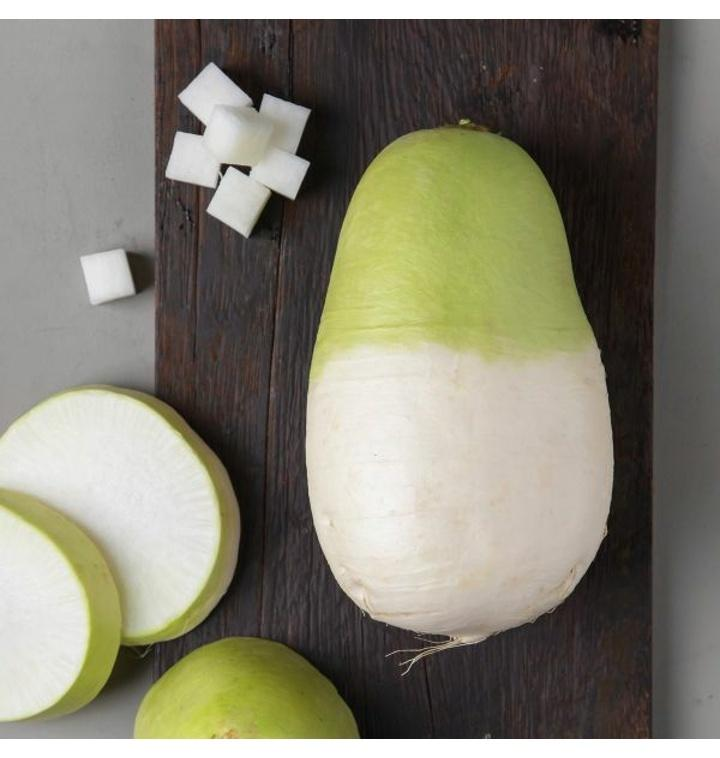radish: (413, 191, 615, 713)
